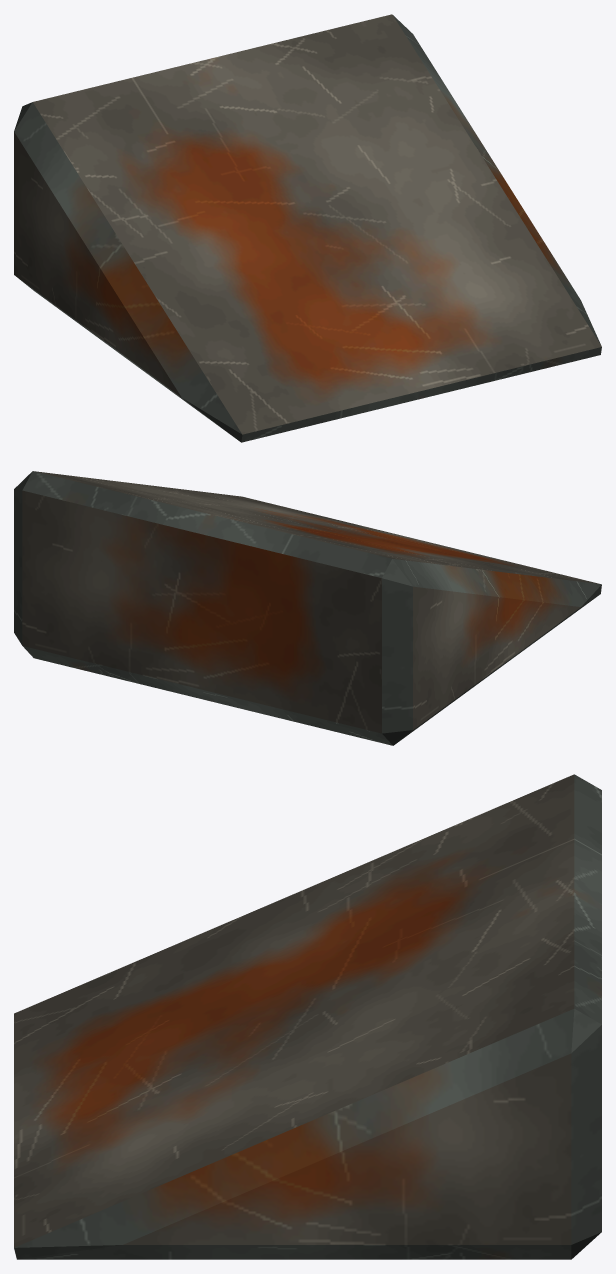
Rendered from R4B_HalfWedge_LOD1.glb.
The picture shows the model from 3 angles, top to bottom: view 1: azimuth 30°, elevation 25°; view 2: azimuth 150°, elevation 25°; view 3: azimuth 270°, elevation 25°; orthographic projection. The views are drawn at different scales.
Visible parts, largest first — view 1: R4B_HalfWedge_LOD1; view 2: R4B_HalfWedge_LOD1; view 3: R4B_HalfWedge_LOD1.
Part boxes in pixels (<box>): R4B_HalfWedge_LOD1: <box>14,14,601,442</box>; R4B_HalfWedge_LOD1: <box>14,471,601,745</box>; R4B_HalfWedge_LOD1: <box>14,774,601,1259</box>.
Size of the model in its own units: 0.52 by 0.234 by 0.4967.
2 materials, 2 textured.
